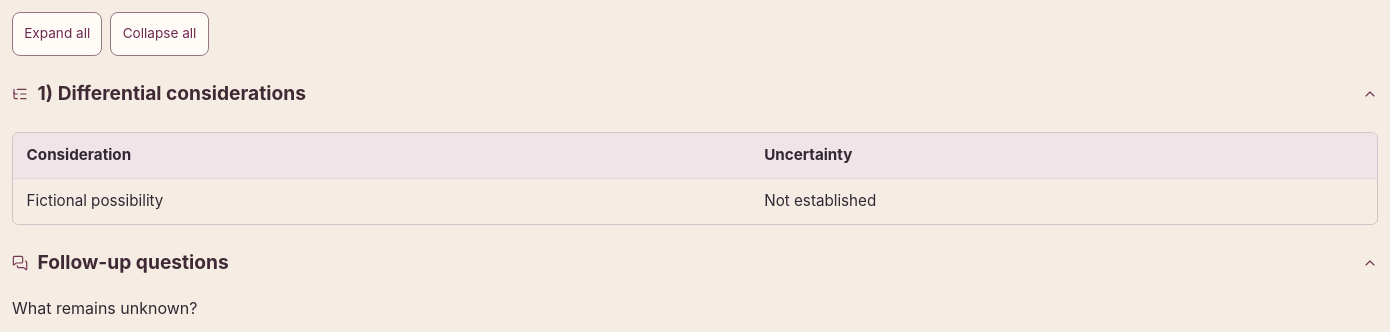
groups the synthetic numberedParenthesis title, differential table, icon and chevron together
Expected: the icon with class "lucide-list-tree" is shown, [12,86,28,102]
Expected: the 1st icon with class "discussionSectionChevron" is shown, [1362,86,1378,102]
Click the heading "1) Differential considerations" at coordinates (182, 93), box [12,81,1378,105]
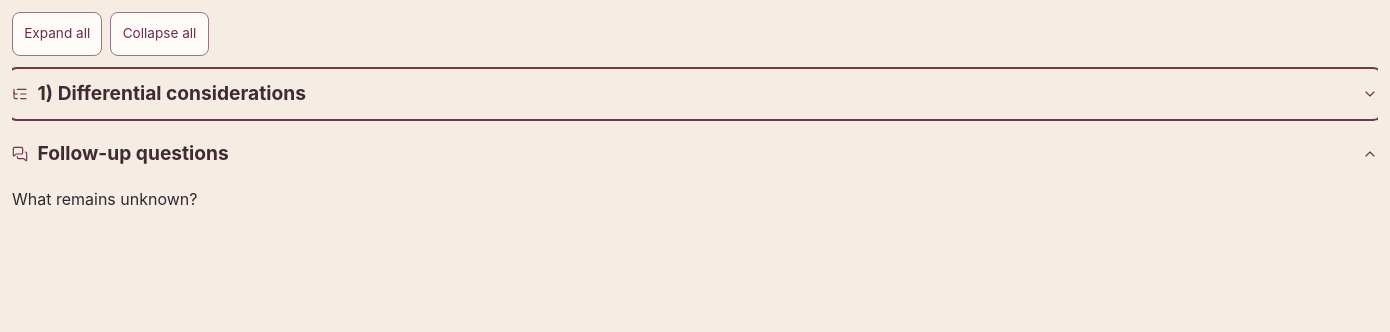
Expected: the text "What remains unknown?" is shown, [12,189,198,209]
Now the table is gone
Press Enter
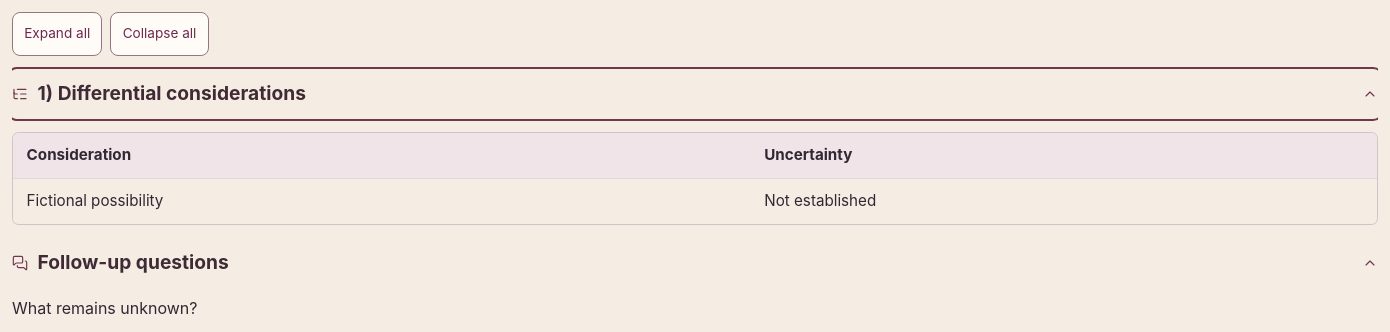
Now the table is shown, box [13,133,1377,224]
